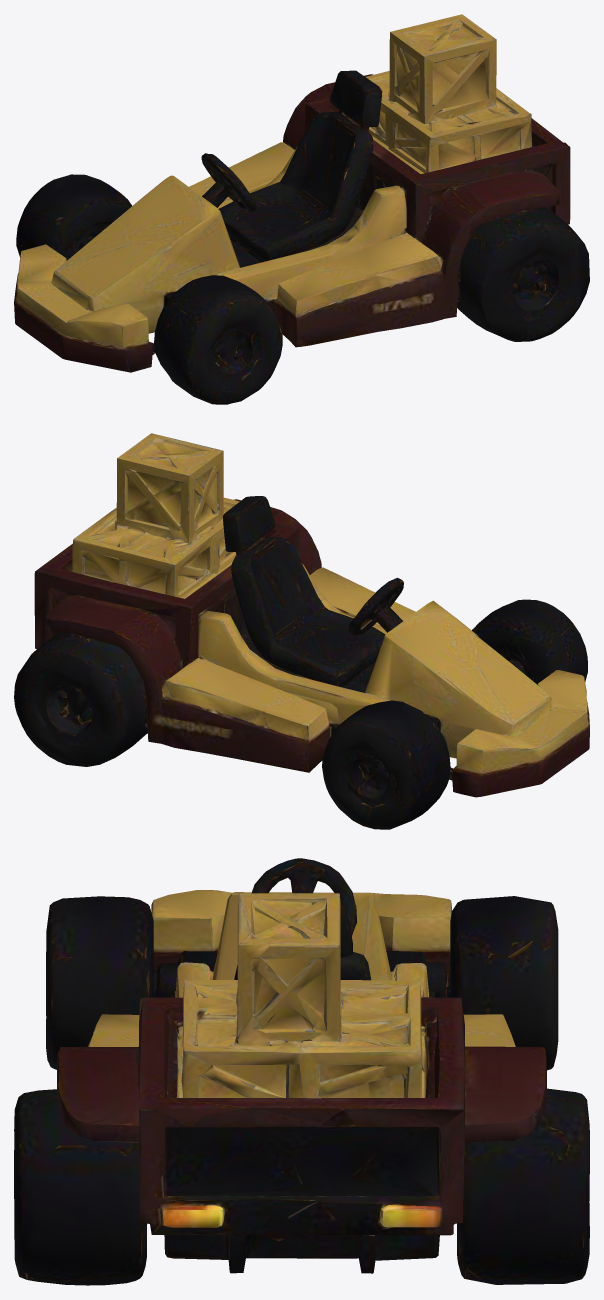
The model's file is sat-stacker.glb.
3 renders of one model, top to bottom at view 1: azimuth 30°, elevation 25°; view 2: azimuth 150°, elevation 25°; view 3: azimuth 270°, elevation 25°, orthographic. The views are drawn at different scales.
Bounding box in the file's own units: 1.9 × 0.9099 × 1.33.
Materials: 1 (1 with a texture image).
